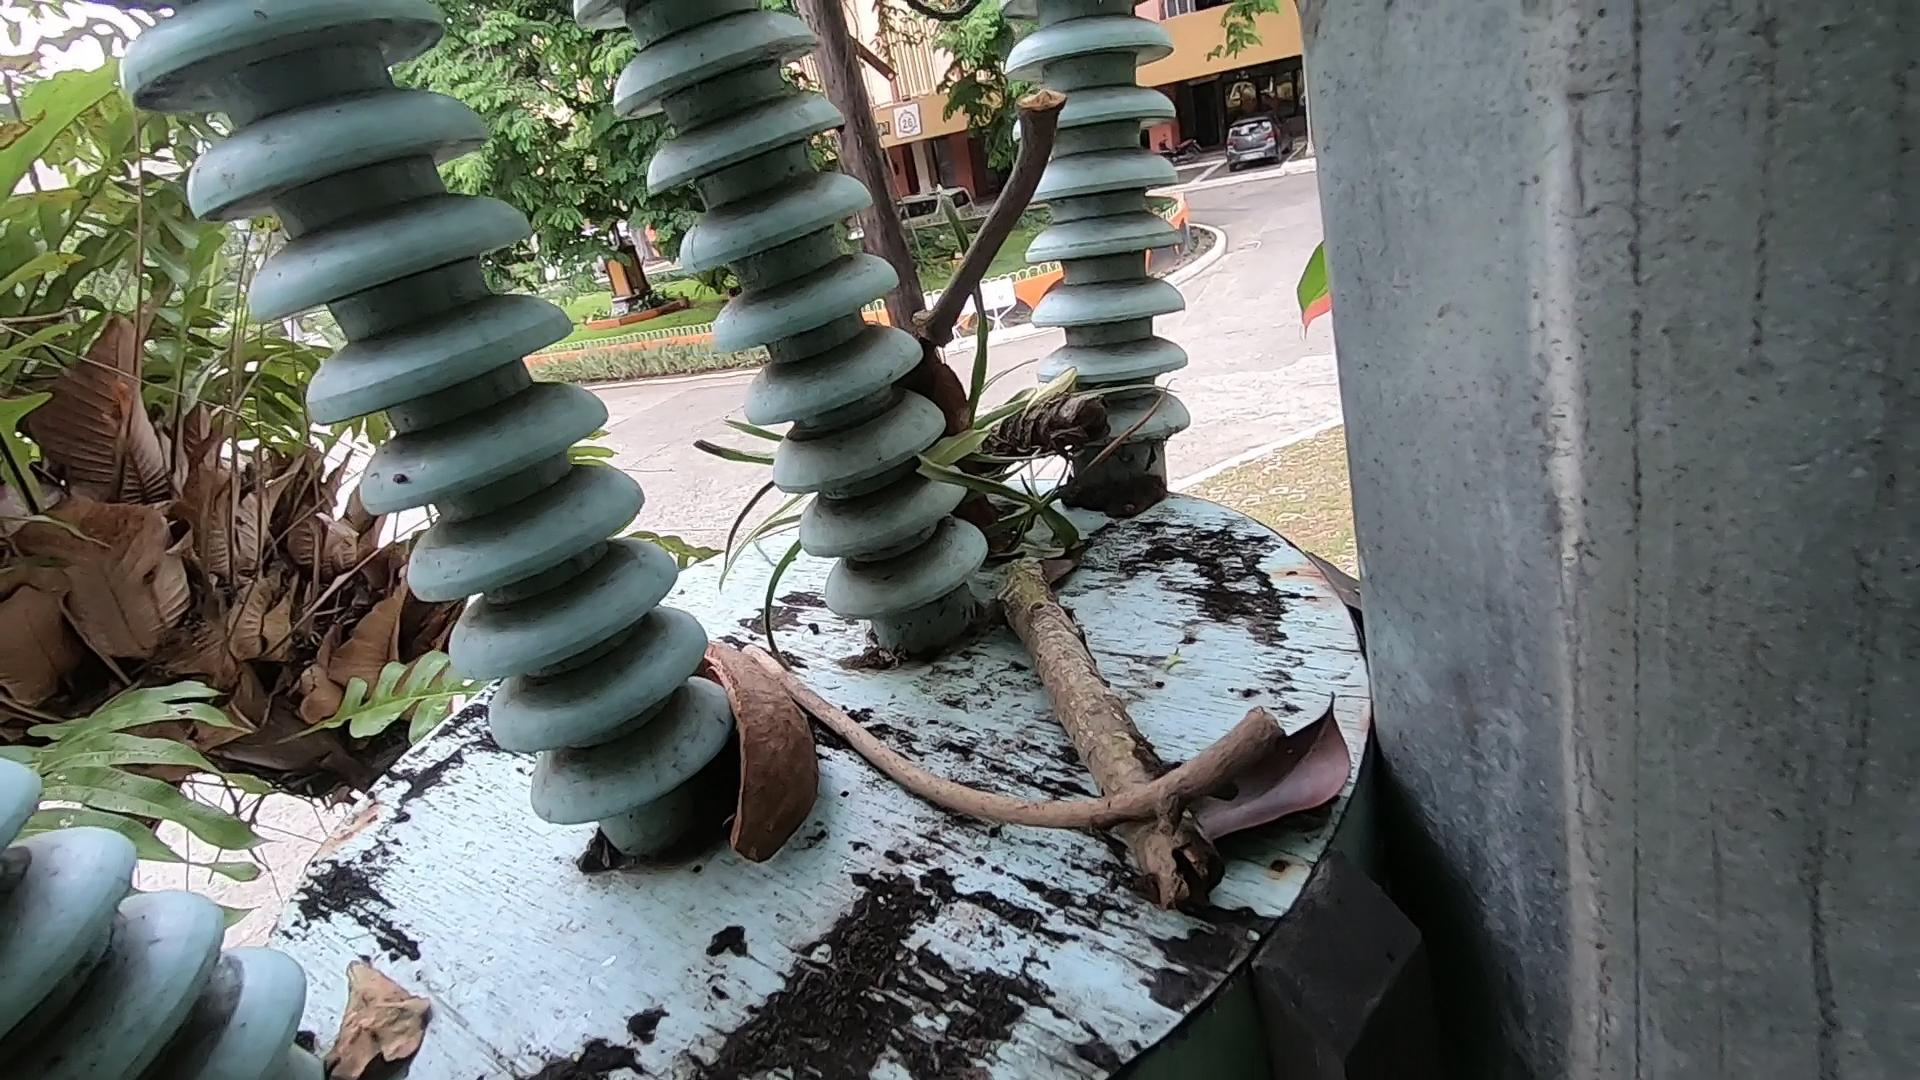branch with leaves: (860, 311, 1305, 988)
leaf: (1237, 667, 1396, 898), (314, 930, 524, 1080)
mahogany fruit: (849, 294, 1060, 626), (674, 628, 829, 882)
tree branch: (729, 628, 1266, 899), (884, 34, 1139, 359)
